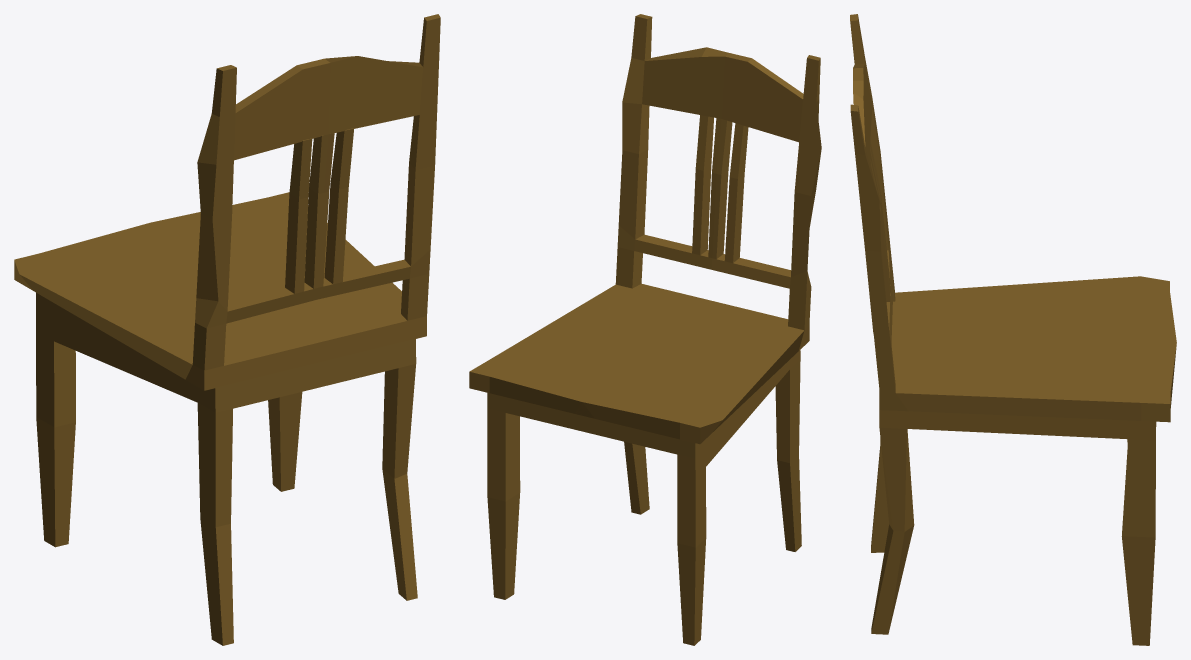
File: chair.fbx
3 renders of one model, left to right at view 1: azimuth 30°, elevation 25°; view 2: azimuth 150°, elevation 25°; view 3: azimuth 270°, elevation 25°, orthographic. The views are drawn at different scales.
Visible parts, largest first — view 1: Cube.001; view 2: Cube.001; view 3: Cube.001.
Part boxes in pixels (x1,y1,x2,y2): Cube.001: (14,14,440,645); Cube.001: (469,14,821,645); Cube.001: (850,14,1176,645).
Size of the model in its own units: 196 by 380 by 212.
